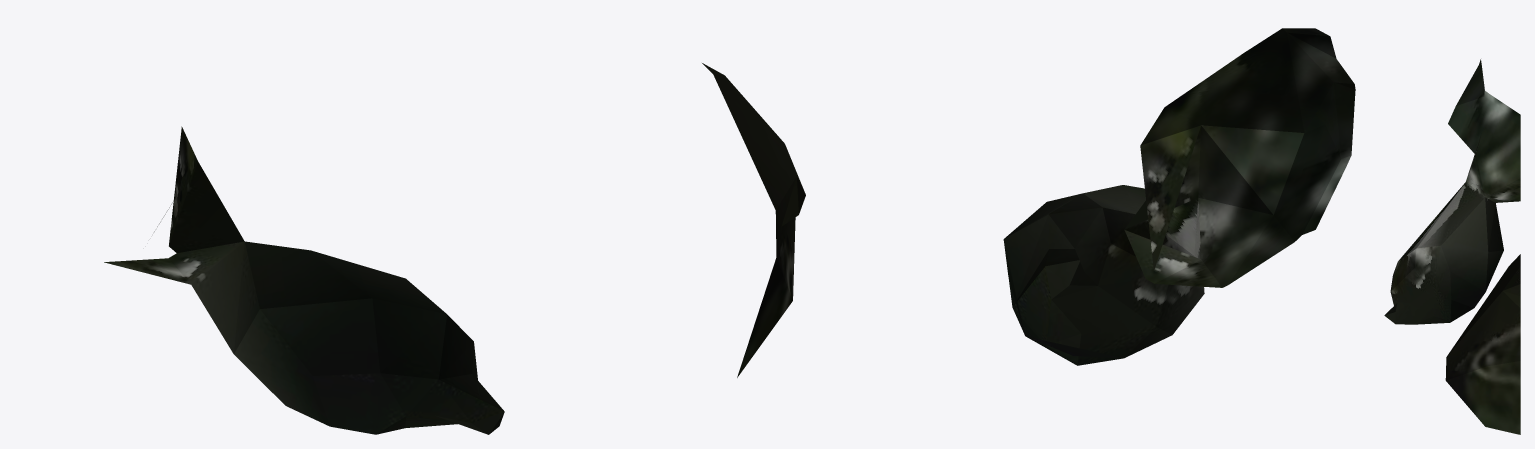
The picture shows the model from 3 angles, left to right: view 1: azimuth 30°, elevation 25°; view 2: azimuth 150°, elevation 25°; view 3: azimuth 270°, elevation 25°; orthographic projection. The views are drawn at different scales.
Bounding box in the file's own units: 0.8374 × 0.7061 × 0.3223.
2 materials, 2 textured.
